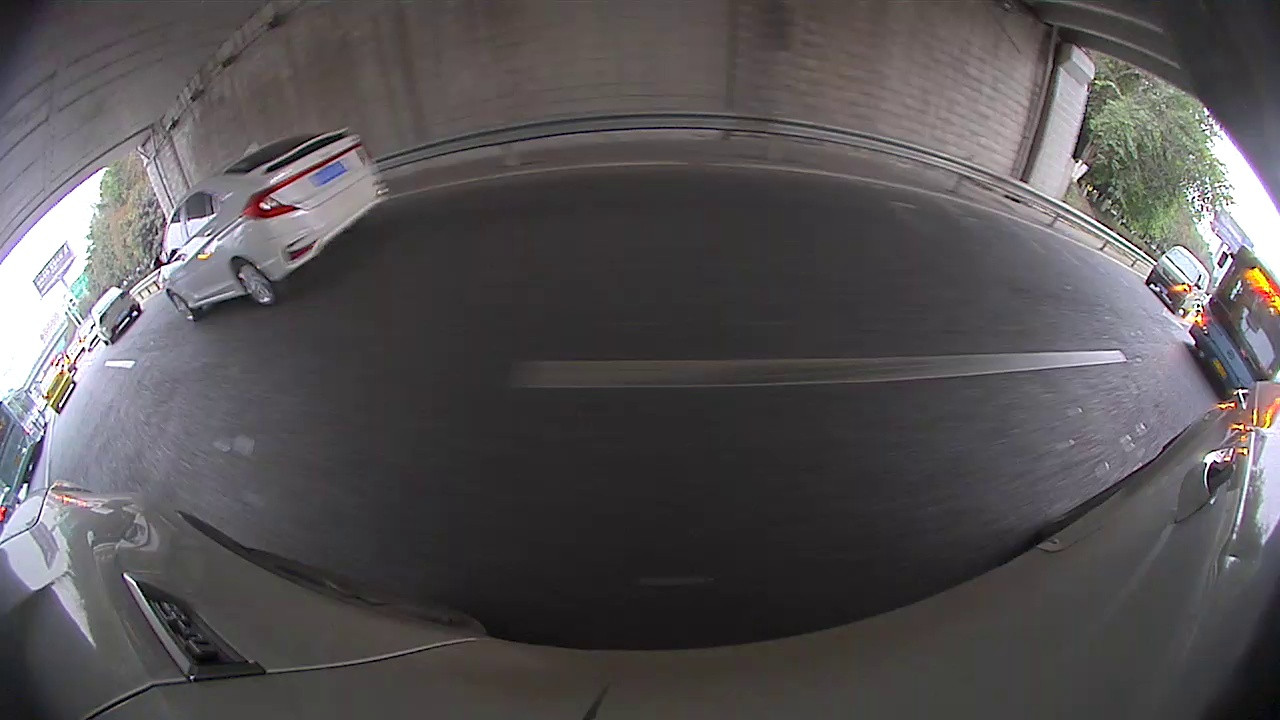bus: (1188, 243, 1279, 404)
car: (156, 123, 389, 324), (1145, 244, 1211, 313), (86, 281, 145, 345), (37, 362, 77, 412)
front: (166, 290, 201, 325)
rear: (235, 260, 280, 310)
